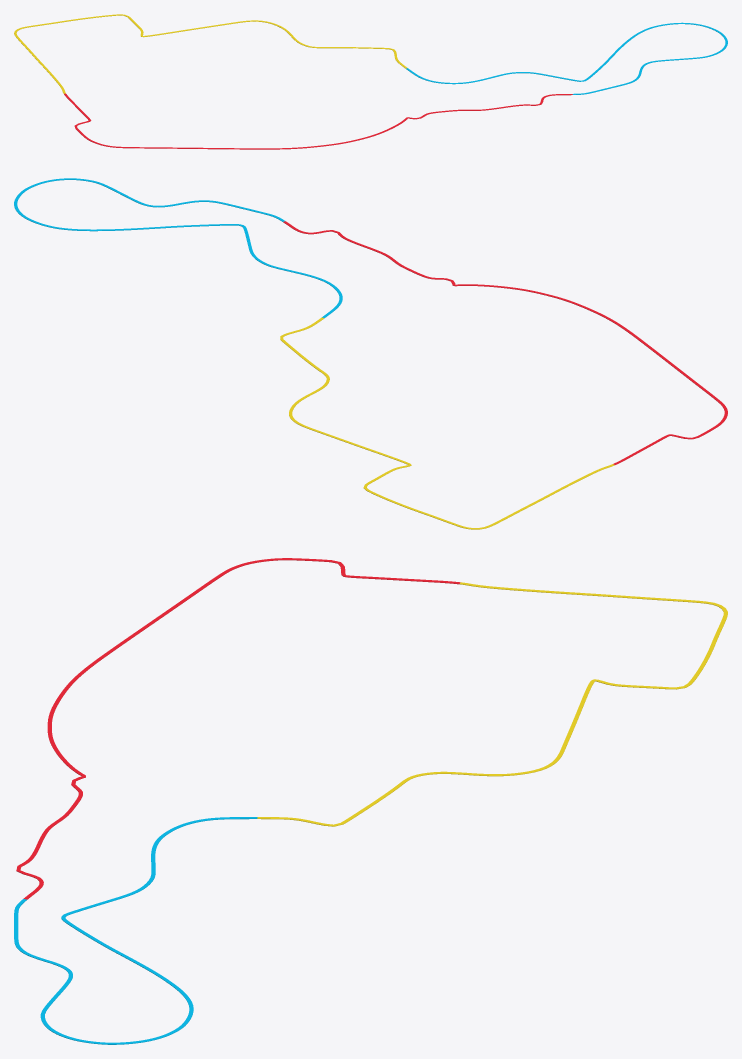
File: MadringSectors.glb
3 views of the same model, one above another, from view 1: azimuth 30°, elevation 25°; view 2: azimuth 150°, elevation 25°; view 3: azimuth 270°, elevation 25° (orthographic). The views are drawn at different scales.
Visible parts, largest first — view 1: SectorStrip_1, SectorStrip_2, SectorStrip_3; view 2: SectorStrip_2, SectorStrip_1, SectorStrip_3; view 3: SectorStrip_3, SectorStrip_2, SectorStrip_1.
Part boxes in pixels (left/top/right/bottom): SectorStrip_1: left=64, top=93, right=572, bottom=149; SectorStrip_2: left=406, top=22, right=727, bottom=94; SectorStrip_3: left=14, top=14, right=407, bottom=93; SectorStrip_2: left=14, top=178, right=342, bottom=318; SectorStrip_1: left=283, top=221, right=727, bottom=464; SectorStrip_3: left=280, top=317, right=614, bottom=529; SectorStrip_3: left=257, top=582, right=727, bottom=826; SectorStrip_2: left=14, top=817, right=257, bottom=1044; SectorStrip_1: left=16, top=558, right=460, bottom=899.
Bounding box in the file's own units: 16.2 × 0.006 × 10.05.
